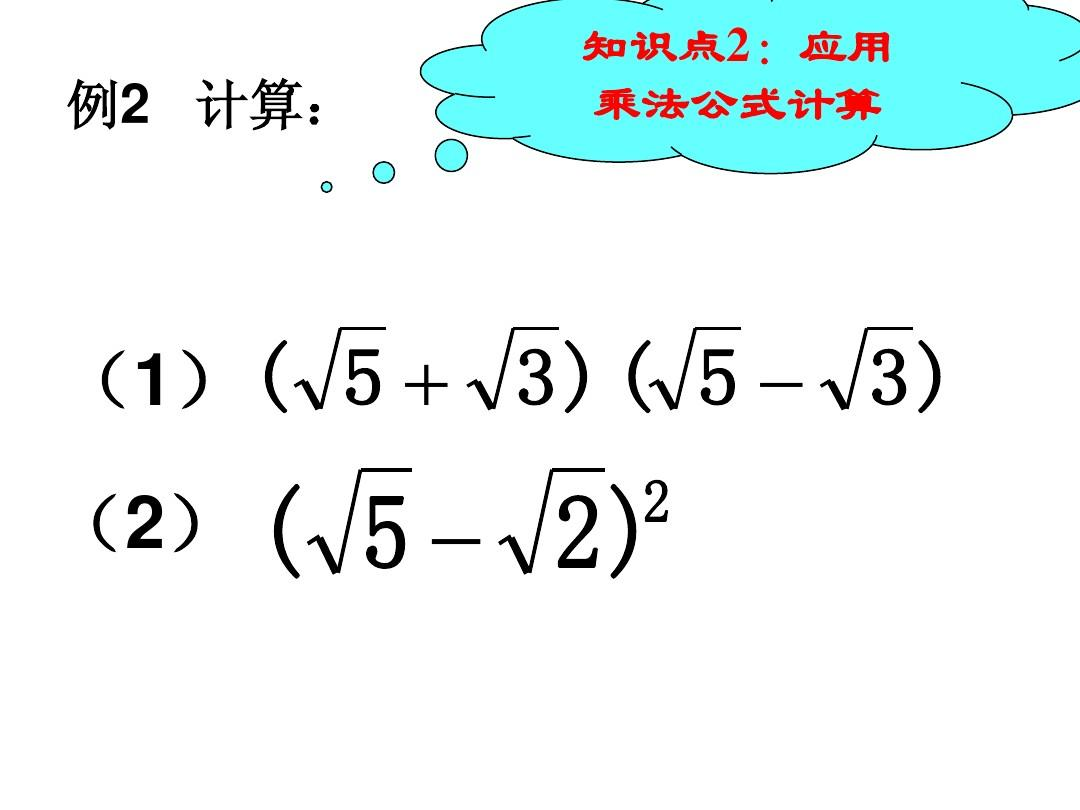sqrt: (491, 464, 609, 581), (304, 466, 418, 583), (288, 321, 391, 416), (821, 322, 922, 415), (649, 322, 751, 414), (465, 319, 561, 412)
square: (636, 477, 673, 525)
